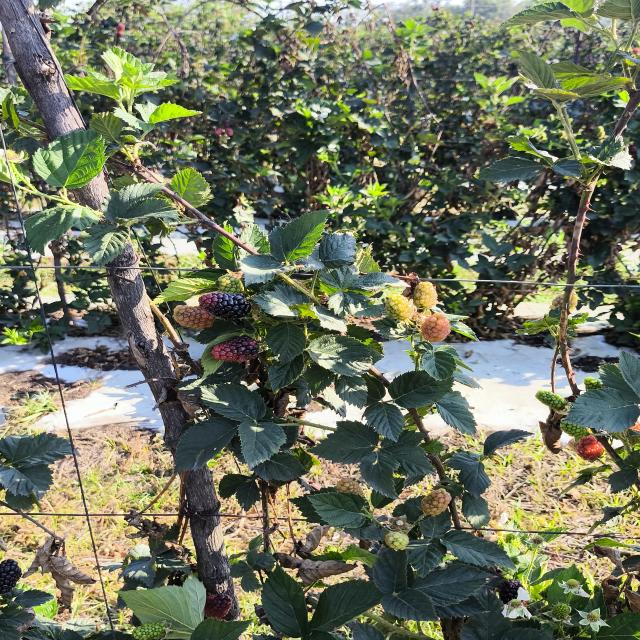marron: (199, 292, 250, 320), (211, 336, 258, 363)
naranja: (173, 305, 214, 330), (421, 312, 451, 342), (421, 488, 451, 516), (204, 593, 232, 620), (577, 435, 604, 460)
verde: (385, 294, 416, 320), (412, 282, 437, 309), (536, 390, 566, 410), (559, 421, 590, 440), (132, 623, 165, 640), (216, 274, 244, 293), (385, 531, 409, 550)
